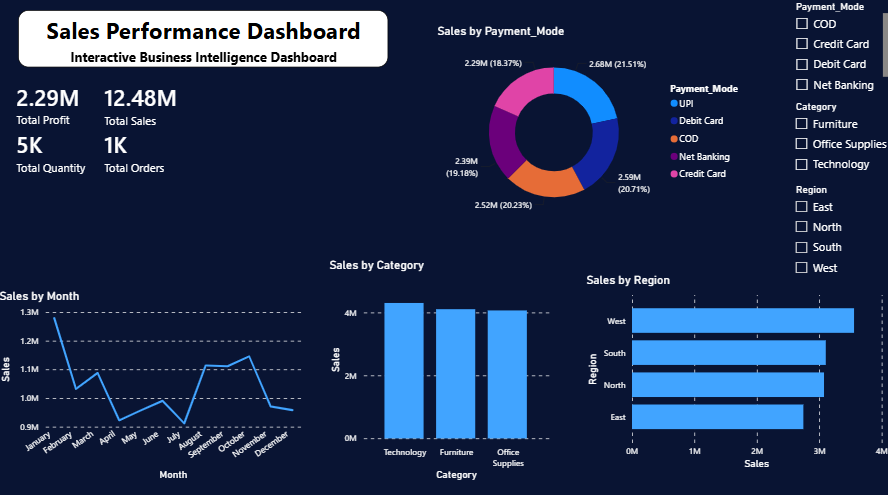

Layout of this report page (visuals, bound fields, positions):
{"tool":"powerbi","page":{"name":"Page 1","canvas":[1280,720],"ordinal":0},"visuals":[{"type":"textbox","title":"Sales Performance Dashboard","box":[31.2,18.4,528.7,82.2],"z":0},{"type":"lineChart","fields":{"Y":["SalesData.Total Sales"],"Category":["SalesData.Order_Date.Variation.Date Hierarchy.Year","SalesData.Order_Date.Variation.Date Hierarchy.Quarter","SalesData.Order_Date.Variation.Date Hierarchy.Month","SalesData.Order_Date.Variation.Date Hierarchy.Day"]},"box":[0,416.7,440.8,277.8],"z":1000},{"type":"clusteredColumnChart","fields":{"Category":["SalesData.Category"],"Y":["Sum(SalesData.Sales)"]},"box":[472,372.8,324.6,321.7],"z":2000},{"type":"clusteredBarChart","fields":{"Category":["SalesData.Region"],"Y":["Sum(SalesData.Sales)"]},"box":[839.1,394,440.8,284.9],"z":3000},{"type":"donutChart","fields":{"Category":["SalesData.Payment_Mode"],"Y":["Sum(SalesData.Sales)"]},"box":[625,38.3,456.4,290.6],"z":4000},{"type":"slicer","fields":{"Values":["SalesData.Region"]},"box":[1129.6,260.8,106.3,155.9],"z":5000},{"type":"slicer","fields":{"Values":["SalesData.Category"]},"box":[1129.6,143.1,150.2,120.5],"z":6000},{"type":"cardVisual","fields":{"Data":["SalesData.Total Sales"]},"box":[126.1,104.9,170.1,100.6],"z":7000},{"type":"cardVisual","fields":{"Data":["SalesData.Total Quantity"]},"box":[0,158.7,167.2,124.7],"z":8000},{"type":"cardVisual","fields":{"Data":["SalesData.Total Profit"]},"box":[0,89.3,151.7,126.1],"z":9000},{"type":"cardVisual","fields":{"Data":["SalesData.Total Orders"]},"box":[126.1,155.9,158.7,130.4],"z":10000},{"type":"slicer","fields":{"Values":["SalesData.Payment_Mode"]},"box":[1129.6,0,150.2,143.1],"z":11000}]}

Visuals, with their boxes in screenshot pixels (x1, y1, x2, y2), scaled from the page's 1280x720 canvas onto the 888x495 screenshot:
"Sales Performance Dashboard" textbox: locate(22, 13, 388, 69)
lineChart - SalesData.Total Sales x SalesData.Order_Date.Variation.Date Hierarchy.Year: locate(0, 286, 306, 477)
clusteredColumnChart - SalesData.Category x Sum(SalesData.Sales): locate(327, 256, 553, 477)
clusteredBarChart - SalesData.Region x Sum(SalesData.Sales): locate(582, 271, 887, 467)
donutChart - SalesData.Payment_Mode x Sum(SalesData.Sales): locate(434, 26, 750, 226)
slicer - SalesData.Region: locate(784, 179, 857, 286)
slicer - SalesData.Category: locate(784, 98, 887, 181)
cardVisual - SalesData.Total Sales: locate(87, 72, 205, 141)
cardVisual - SalesData.Total Quantity: locate(0, 109, 116, 195)
cardVisual - SalesData.Total Profit: locate(0, 61, 105, 148)
cardVisual - SalesData.Total Orders: locate(87, 107, 198, 197)
slicer - SalesData.Payment_Mode: locate(784, 0, 887, 98)
